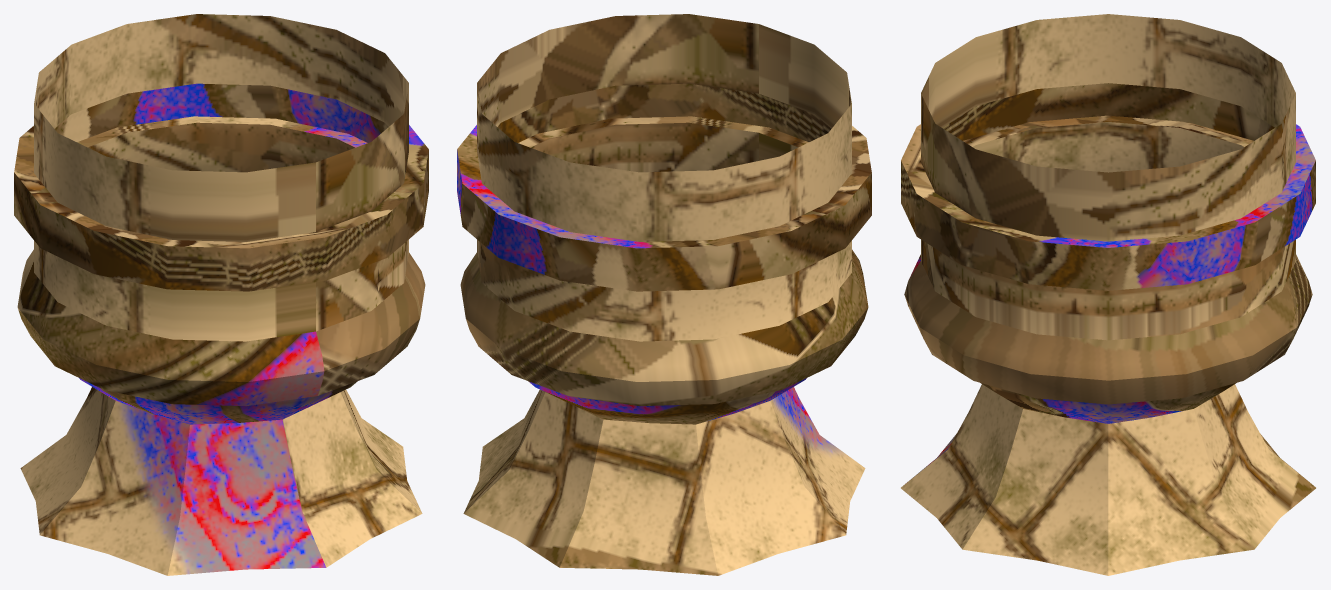
File: SM_Columna2Base.fbx
The picture shows the model from 3 angles, left to right: view 1: azimuth 30°, elevation 25°; view 2: azimuth 150°, elevation 25°; view 3: azimuth 270°, elevation 25°; orthographic projection.
Visible parts, largest first — view 1: SM_Columna2Base; view 2: SM_Columna2Base; view 3: SM_Columna2Base.
Part boxes in pixels (x1=…): SM_Columna2Base: x1=14, y1=14, x2=428, y2=575; SM_Columna2Base: x1=457, y1=14, x2=871, y2=575; SM_Columna2Base: x1=901, y1=14, x2=1315, y2=575.
Size of the model in its own units: 95.59 by 100 by 95.59.
